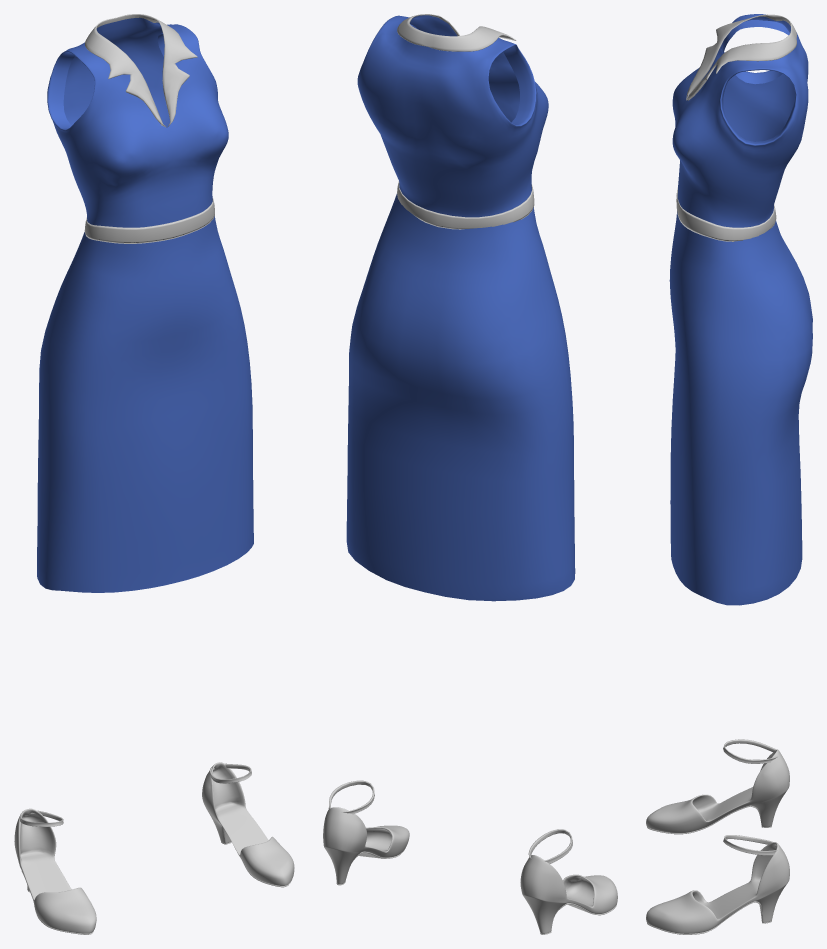
Rendered from nvquntao1.obj.
The picture shows the model from 3 angles, left to right: view 1: azimuth 30°, elevation 25°; view 2: azimuth 150°, elevation 25°; view 3: azimuth 270°, elevation 25°; orthographic projection. The views are drawn at different scales.
Parts seen in each view (by area): view 1: nvquntao2; view 2: nvquntao2; view 3: nvquntao2.
Boxes of the visible parts, bbox=[...] form: nvquntao2: bbox=[14, 14, 294, 934]; nvquntao2: bbox=[323, 14, 617, 934]; nvquntao2: bbox=[646, 14, 812, 934].
Bounding box in the file's own units: 1.68 × 5.51 × 0.9827.
